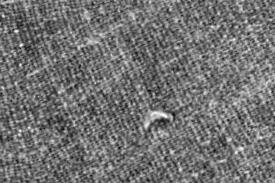snag: (138, 106, 178, 135)
